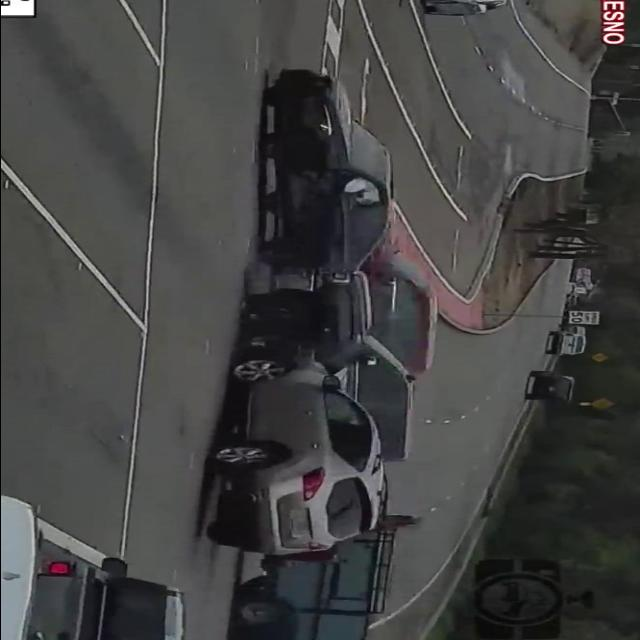accident: (192, 270, 434, 576), (219, 54, 425, 268)
